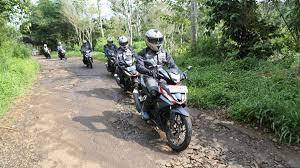Pothole: (193, 114, 298, 168), (118, 94, 156, 154), (25, 55, 84, 87)
